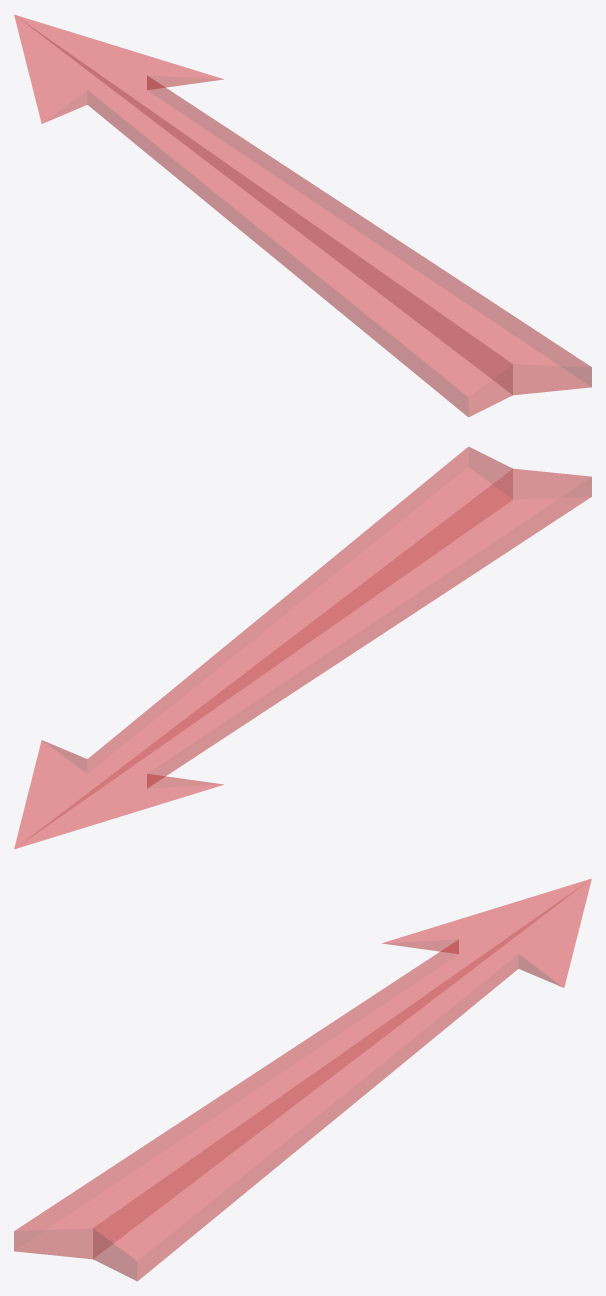
File: arrow_test.fbx
3 renders of one model, top to bottom at view 1: azimuth 30°, elevation 25°; view 2: azimuth 150°, elevation 25°; view 3: azimuth 330°, elevation 25°, orthographic.
Parts seen in each view (by area): view 1: arrow; view 2: arrow; view 3: arrow.
Boxes of the visible parts, bbox=[...] form: arrow: bbox=[14, 14, 591, 417]; arrow: bbox=[14, 446, 591, 849]; arrow: bbox=[14, 878, 591, 1281].
Bounding box in the file's own units: 19.65 × 3.2 × 96.
